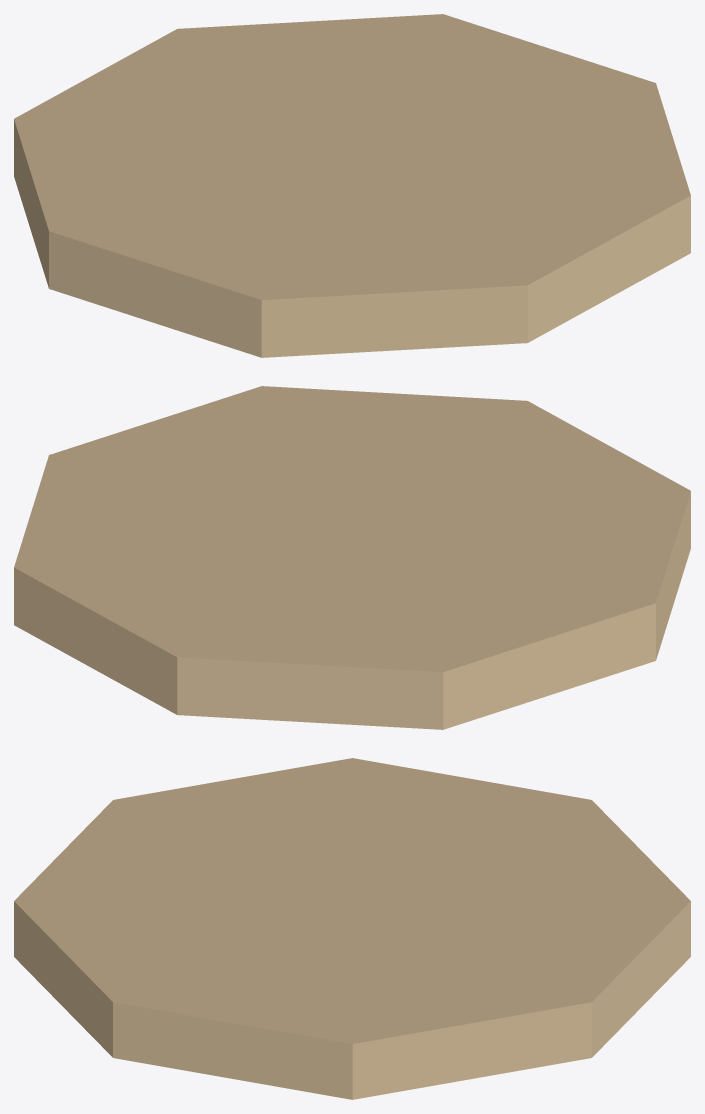
Rendered from SM_CocinaCampana_v0_Olla_LOD1.fbx.
3 renders of one model, top to bottom at view 1: azimuth 30°, elevation 25°; view 2: azimuth 150°, elevation 25°; view 3: azimuth 270°, elevation 25°, orthographic. The views are drawn at different scales.
Visible parts, largest first — view 1: Emision; view 2: Emision; view 3: Emision.
Part boxes in pixels (x1,y1,x2,y2): Emision: (14,14,690,357); Emision: (14,386,690,729); Emision: (14,758,690,1099).
Size of what is drawn, in the model's own units: 0.44 by 0.04 by 0.44.
